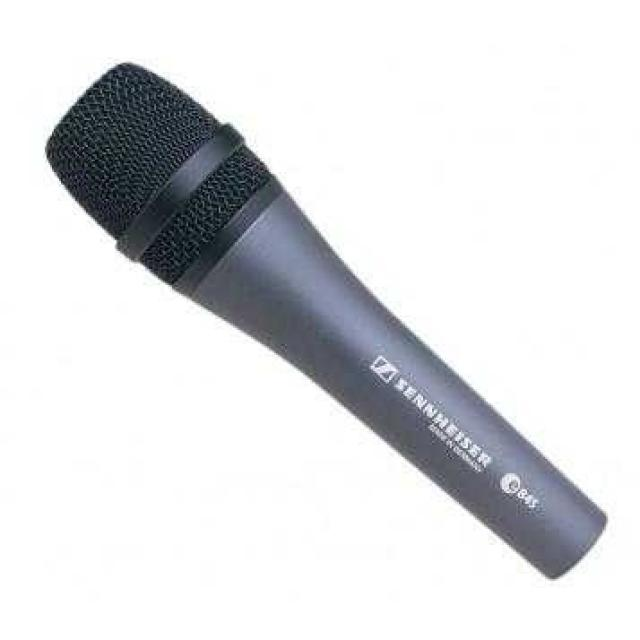microphone: (36, 58, 620, 592)
